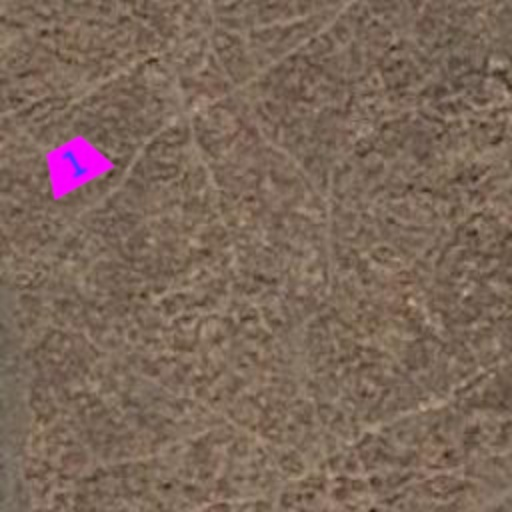trapezoid: (26, 116, 122, 212)
